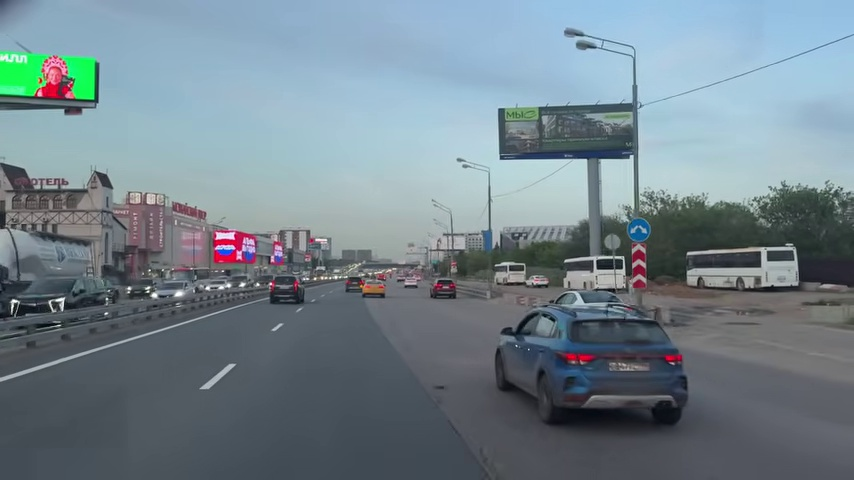apagada: (564, 26, 591, 53), (454, 155, 473, 171)
